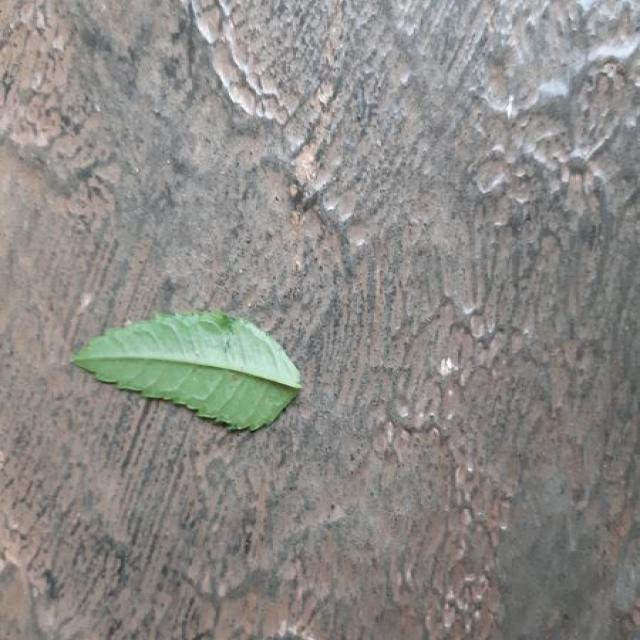marigold: (73, 311, 302, 429)
